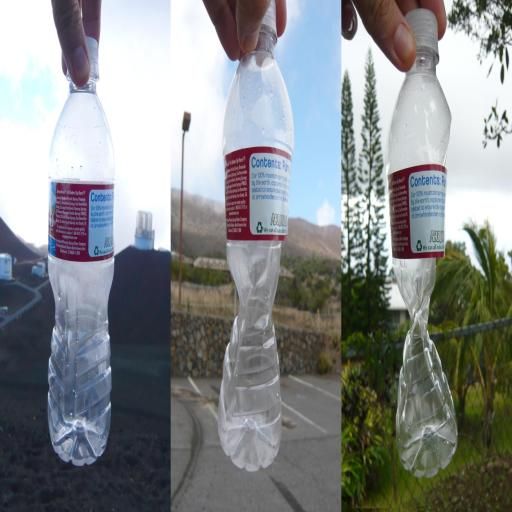plastic bottle: (217, 32, 297, 473), (387, 49, 458, 478), (47, 74, 115, 464)
plastic bottle cap: (402, 8, 438, 64), (65, 35, 100, 84), (259, 0, 278, 46)
